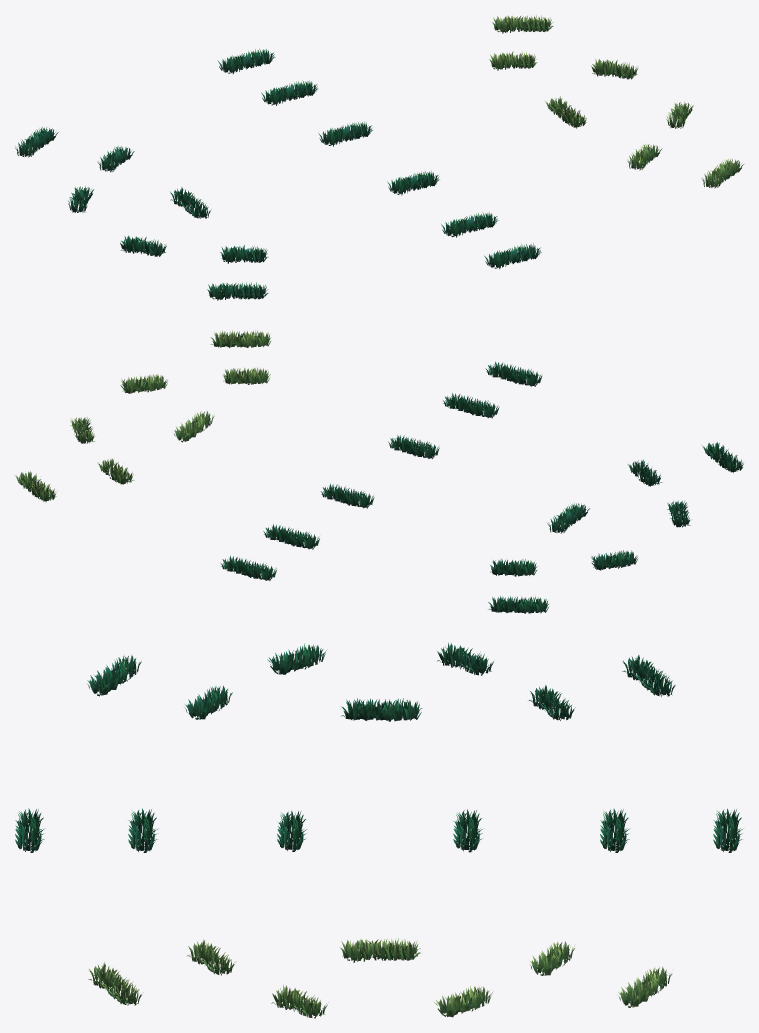
The model's file is pref_SightBlockerGrasses02_alpha01_lv1.fbx.
The picture shows the model from 3 angles, top to bottom: view 1: azimuth 30°, elevation 25°; view 2: azimuth 150°, elevation 25°; view 3: azimuth 270°, elevation 25°; orthographic projection. The views are drawn at different scales.
Parts seen in each view (by area): view 1: pref_sm_beach_techgrass_alpha_01_lv1 (×9), pref_sm_beach_techgrass_alpha_yellow01_lv1 (×3), pref_sm_beach_techgrass_alpha_03_lv1 (×3), pref_sm_beach_techgrass_alpha_yellow03_lv1 (×3); view 2: pref_sm_beach_techgrass_alpha_01_lv1 (×9), pref_sm_beach_techgrass_alpha_yellow01_lv1 (×3), pref_sm_beach_techgrass_alpha_yellow03_lv1 (×3), pref_sm_beach_techgrass_alpha_03_lv1 (×3); view 3: pref_sm_beach_techgrass_alpha_01_lv1 (×9), pref_sm_beach_techgrass_alpha_03_lv1 (×4), pref_sm_beach_techgrass_alpha_yellow03_lv1 (×4), pref_sm_beach_techgrass_alpha_yellow01_lv1 (×3).
Part boxes in pixels (left/top/right/bottom): pref_sm_beach_techgrass_alpha_01_lv1 (×9): left=15, top=48, right=541, bottom=300; pref_sm_beach_techgrass_alpha_yellow01_lv1 (×3): left=492, top=15, right=744, bottom=188; pref_sm_beach_techgrass_alpha_03_lv1 (×3): left=97, top=145, right=268, bottom=263; pref_sm_beach_techgrass_alpha_yellow03_lv1 (×3): left=489, top=51, right=662, bottom=170; pref_sm_beach_techgrass_alpha_01_lv1 (×9): left=220, top=361, right=743, bottom=613; pref_sm_beach_techgrass_alpha_yellow01_lv1 (×3): left=14, top=330, right=271, bottom=501; pref_sm_beach_techgrass_alpha_yellow03_lv1 (×3): left=97, top=367, right=270, bottom=484; pref_sm_beach_techgrass_alpha_03_lv1 (×3): left=490, top=459, right=662, bottom=576; pref_sm_beach_techgrass_alpha_01_lv1 (×9): left=15, top=655, right=743, bottom=852; pref_sm_beach_techgrass_alpha_03_lv1 (×4): left=184, top=642, right=575, bottom=720; pref_sm_beach_techgrass_alpha_yellow03_lv1 (×4): left=187, top=939, right=574, bottom=1018; pref_sm_beach_techgrass_alpha_yellow01_lv1 (×3): left=88, top=938, right=672, bottom=1007.
Bounding box in the file's own units: 74.46 × 1.86 × 62.69.
